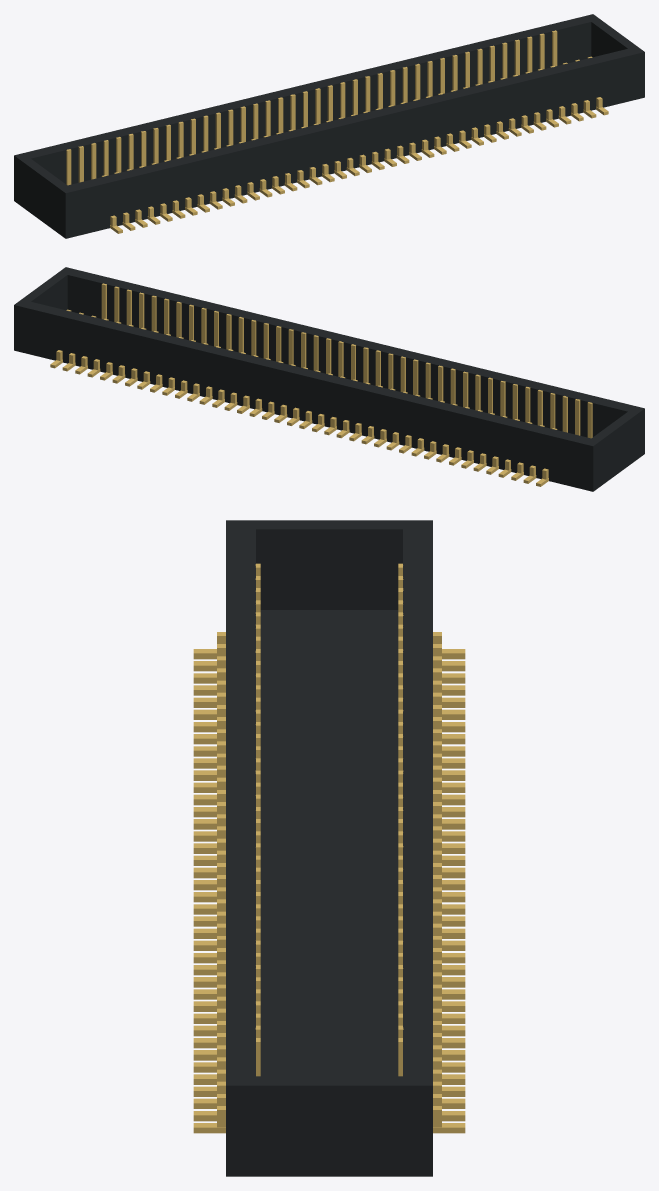
The model's file is df40-80ds-preview.glb.
3 views of the same model, one above another, from view 1: azimuth 30°, elevation 25°; view 2: azimuth 150°, elevation 25°; view 3: azimuth 270°, elevation 25° (orthographic). The views are drawn at different scales.
Visible parts, largest first — view 1: df40-80ds-preview; view 2: df40-80ds-preview; view 3: df40-80ds-preview.
Part boxes in pixels (<box>): df40-80ds-preview: <box>14,14,644,238</box>; df40-80ds-preview: <box>14,267,644,491</box>; df40-80ds-preview: <box>193,520,465,1176</box>.
Size of the model in its own units: 18.6 by 1.4 by 3.78.
